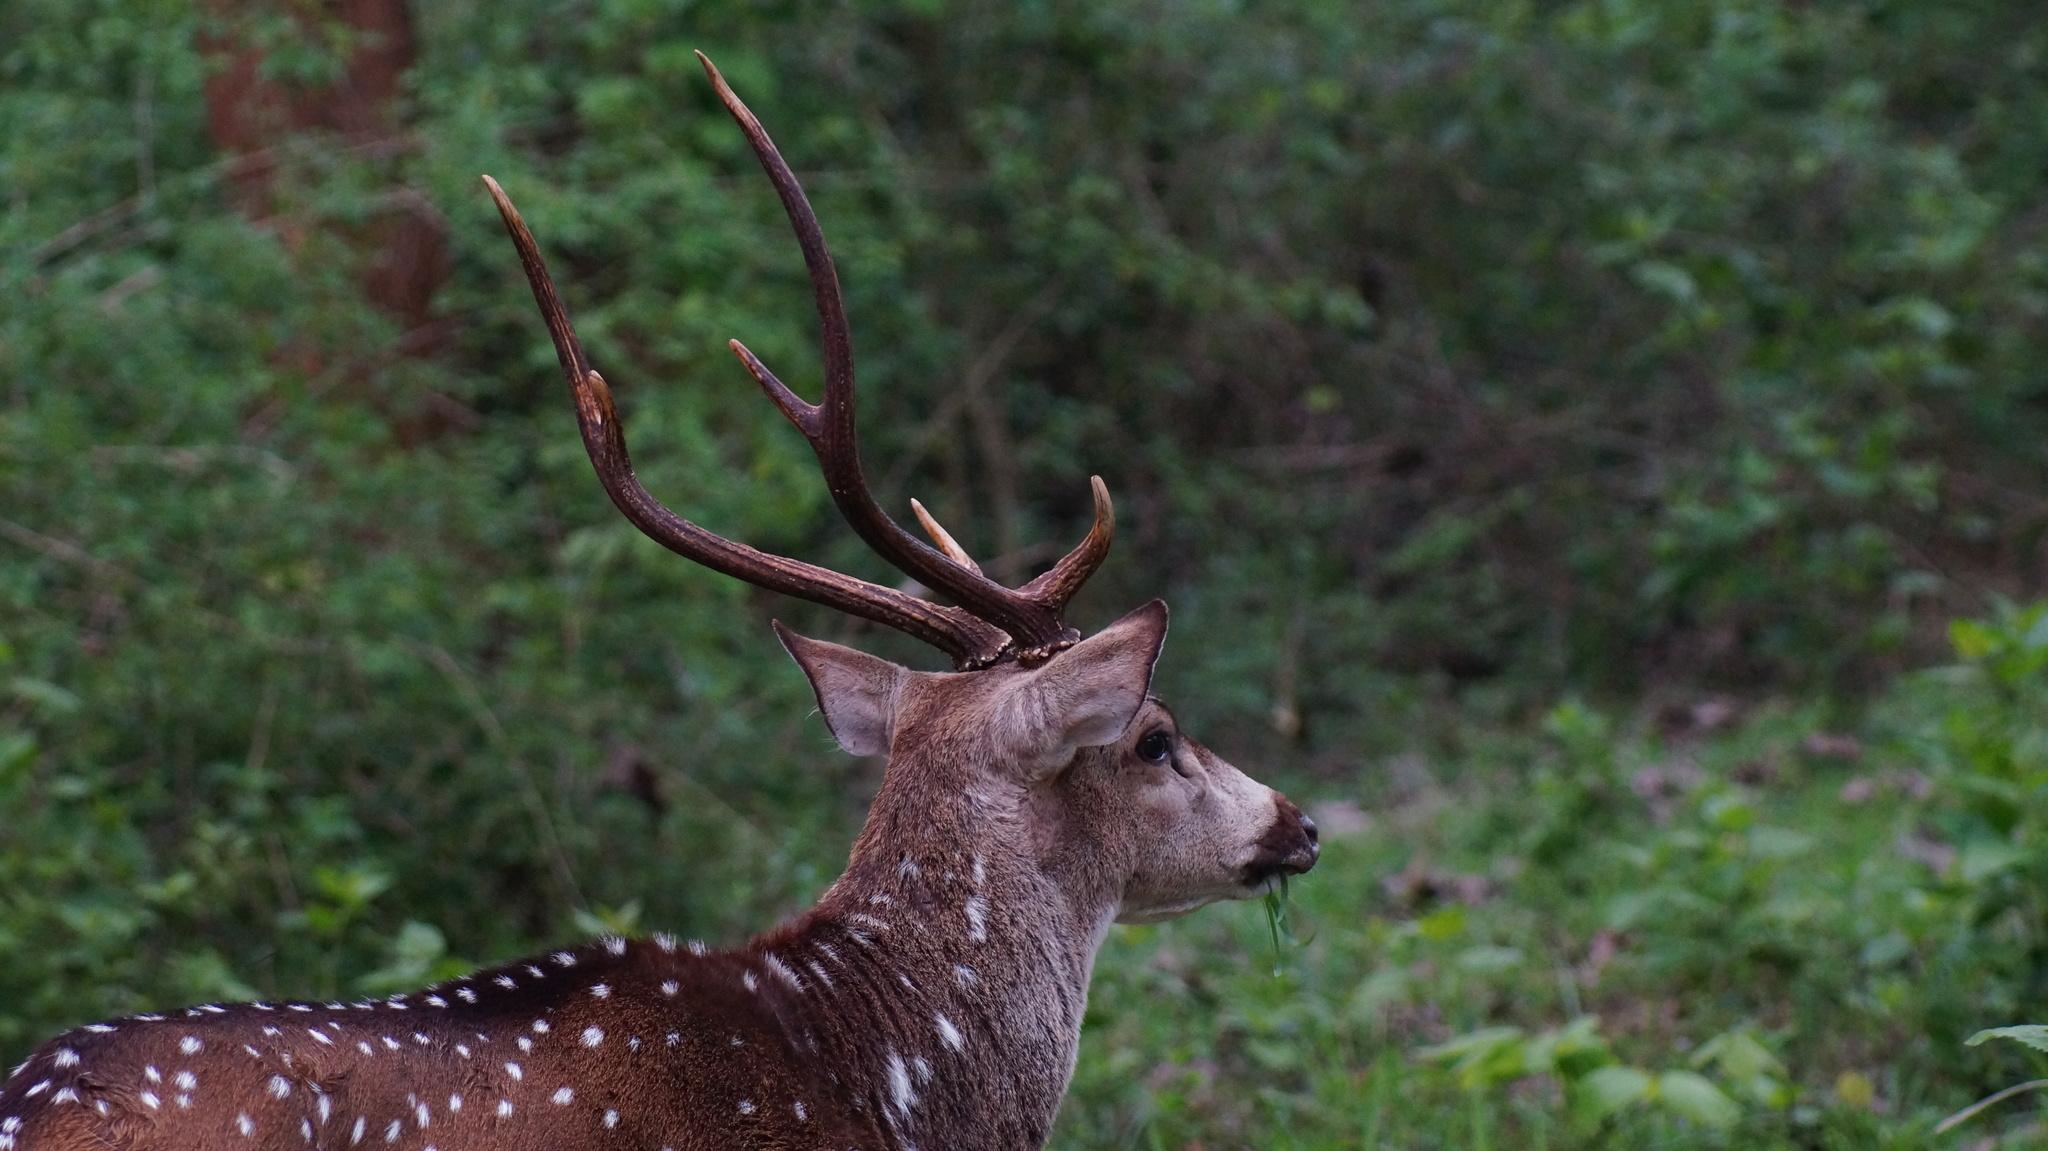Deer: (0, 53, 1319, 1150)
